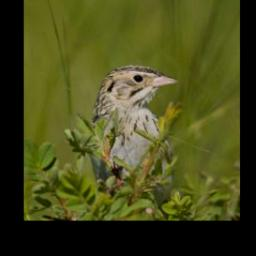Sparrow: (80, 64, 178, 210)
